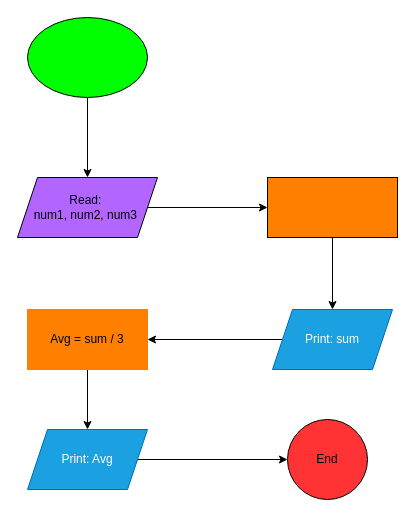
The diagram is 415 pixels wide and 517 high, and some of its shapes have lost their labels. The box of each missing label's shape, as (x1, y1, x2, y2) in pixels:
Start: (26, 16, 148, 98)
sum = num1 + num2 + num3: (266, 176, 398, 238)
